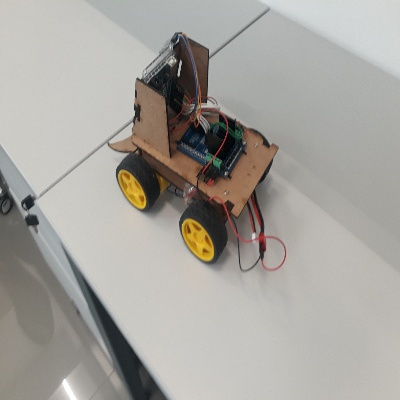Robot: (100, 31, 279, 265)
